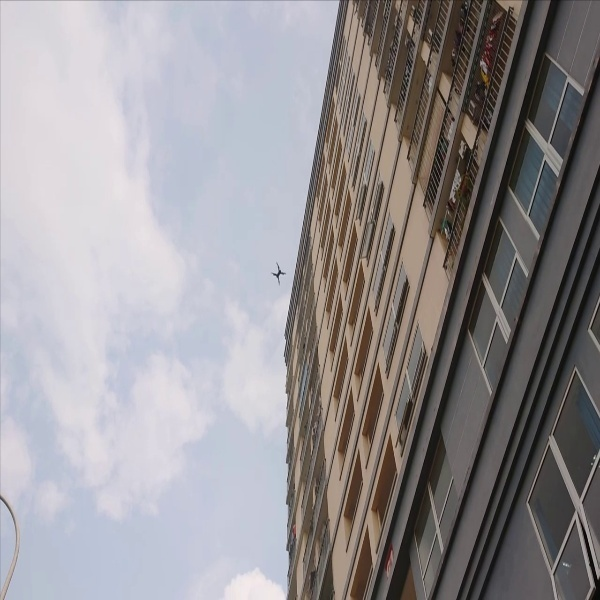drone: (267, 261, 290, 285)
